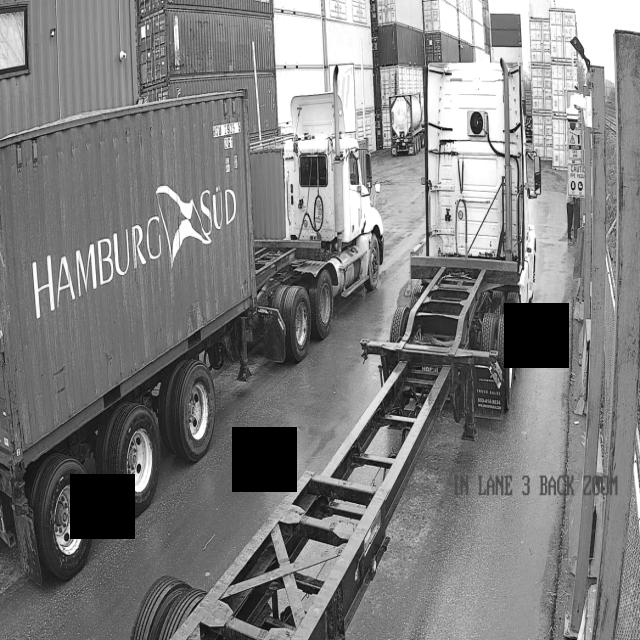container_company_logo: (27, 166, 240, 333)
truck_with_container: (0, 90, 384, 583)
truck_without_container: (132, 63, 541, 640)
